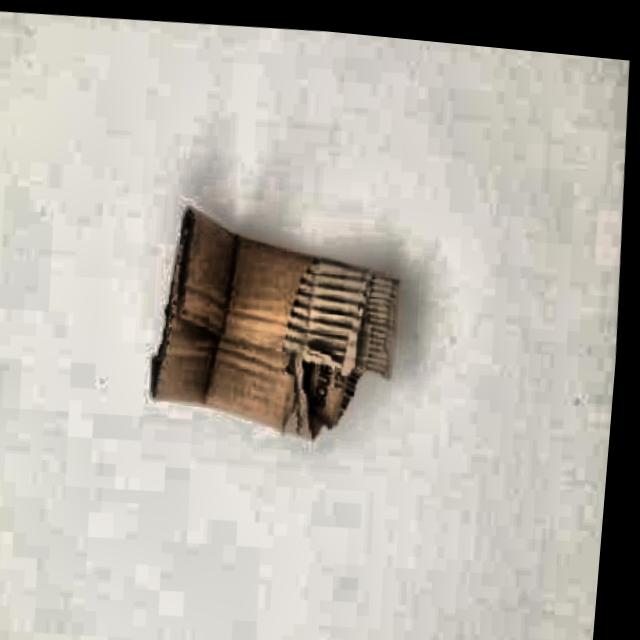Cardbox: (116, 169, 436, 465)
